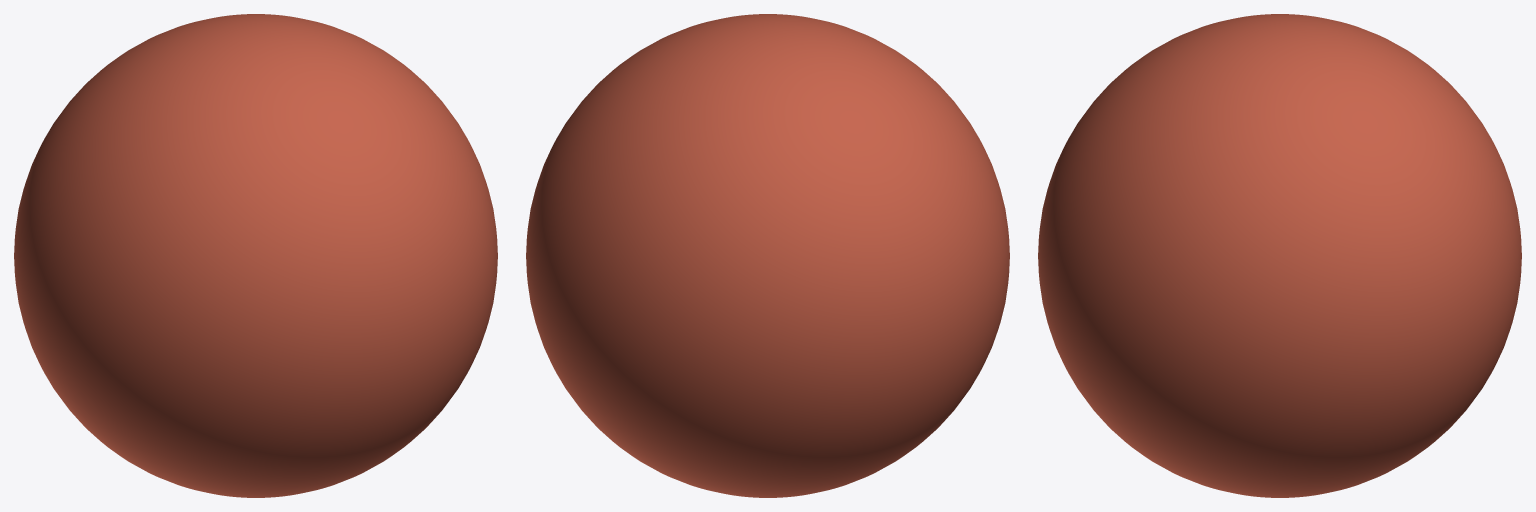
Rendered from Planet_Mars.glb.
The picture shows the model from 3 angles, left to right: view 1: azimuth 30°, elevation 25°; view 2: azimuth 150°, elevation 25°; view 3: azimuth 270°, elevation 25°; orthographic projection.
Visible parts, largest first — view 1: Planet_Mars; view 2: Planet_Mars; view 3: Planet_Mars.
Part boxes in pixels (box(x1,y1,x2,y2)): Planet_Mars: box(14, 14, 497, 497); Planet_Mars: box(526, 14, 1009, 497); Planet_Mars: box(1038, 14, 1521, 497).
Bounding box in the file's own units: 2 × 2 × 2.
